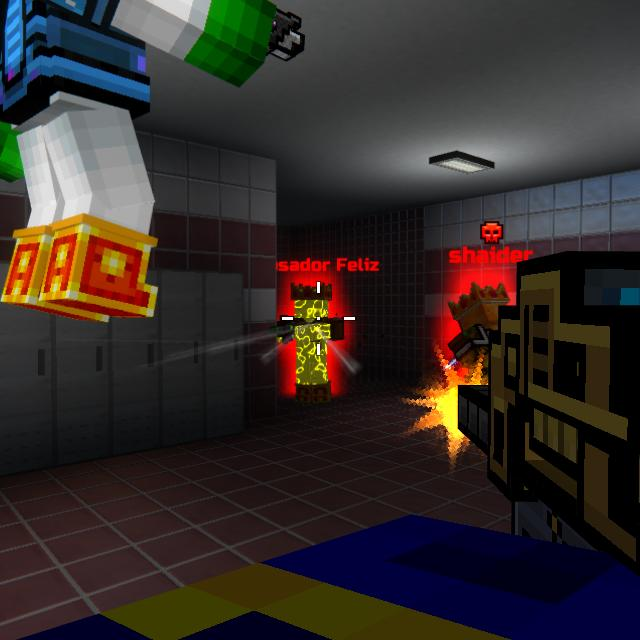Enemy: (282, 284, 347, 403), (448, 291, 510, 383)
